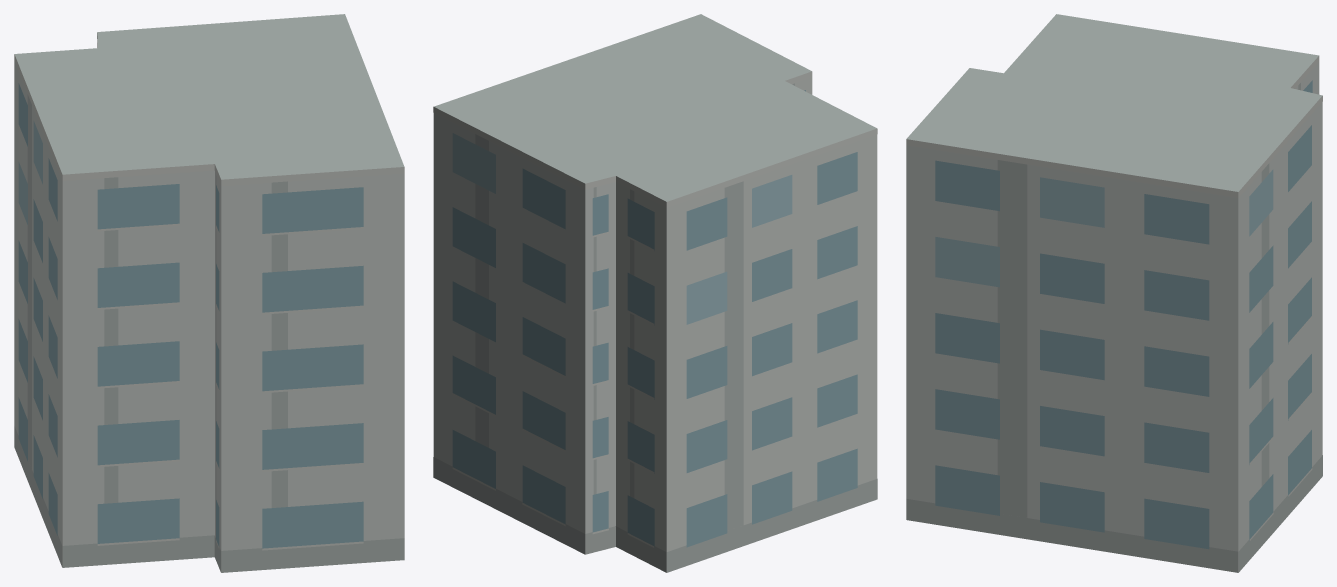
The model's file is survey-upis-32778338.glb.
3 renders of one model, left to right at view 1: azimuth 30°, elevation 25°; view 2: azimuth 150°, elevation 25°; view 3: azimuth 270°, elevation 25°, orthographic. The views are drawn at different scales.
Parts seen in each view (by area): view 1: survey-upis-32778338.tmp; view 2: survey-upis-32778338.tmp; view 3: survey-upis-32778338.tmp.
Part boxes in pixels (bbox=[...]): survey-upis-32778338.tmp: bbox=[14, 14, 404, 572]; survey-upis-32778338.tmp: bbox=[433, 14, 877, 572]; survey-upis-32778338.tmp: bbox=[906, 14, 1322, 572].
Size of the model in its own units: 14.94 by 14.9 by 14.77.
